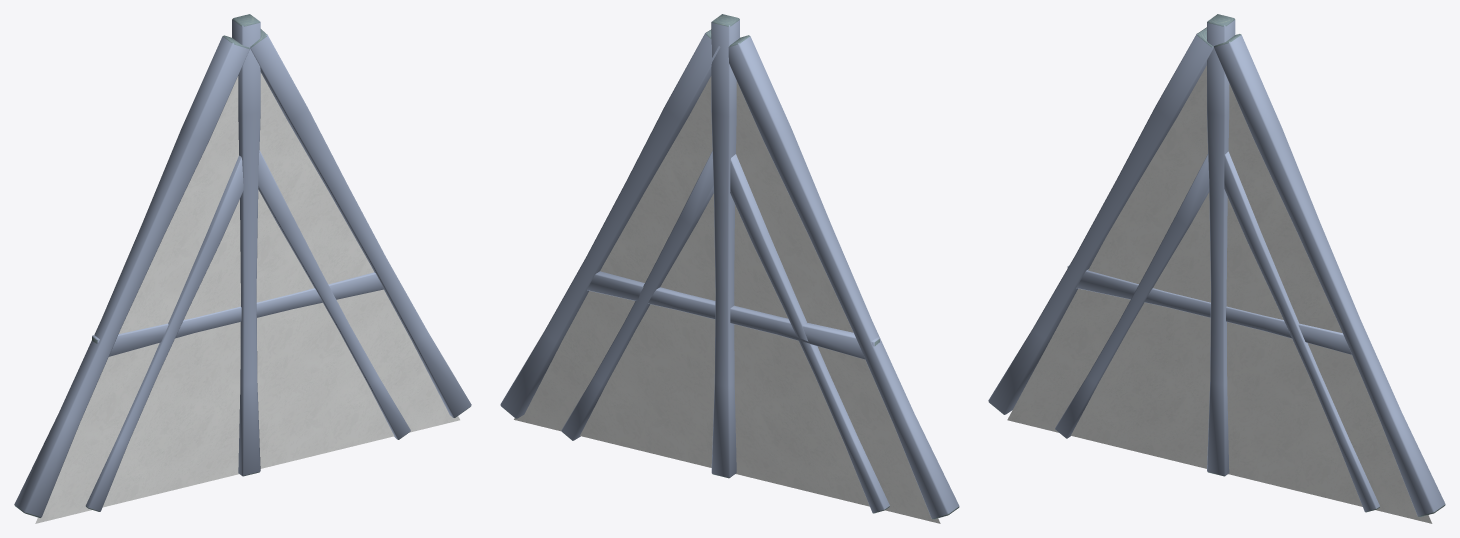
Rendered from PlasterWall_Triangle.fbx.
3 views of the same model, side by side, from view 1: azimuth 30°, elevation 25°; view 2: azimuth 150°, elevation 25°; view 3: azimuth 330°, elevation 25° (orthographic).
Parts seen in each view (by area): view 1: PlasterWall_Triangle; view 2: PlasterWall_Triangle; view 3: PlasterWall_Triangle.
Boxes of the visible parts, left/top/right/bottom form: PlasterWall_Triangle: left=14, top=14, right=471, bottom=523; PlasterWall_Triangle: left=500, top=14, right=959, bottom=523; PlasterWall_Triangle: left=988, top=14, right=1445, bottom=523.
Size of the model in its own units: 4.21 by 4.08 by 0.1993.
